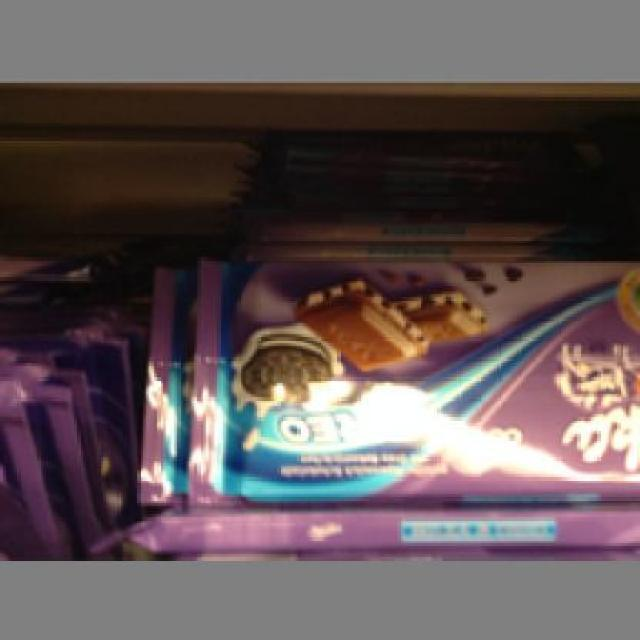Chocolate: (185, 252, 638, 508)
